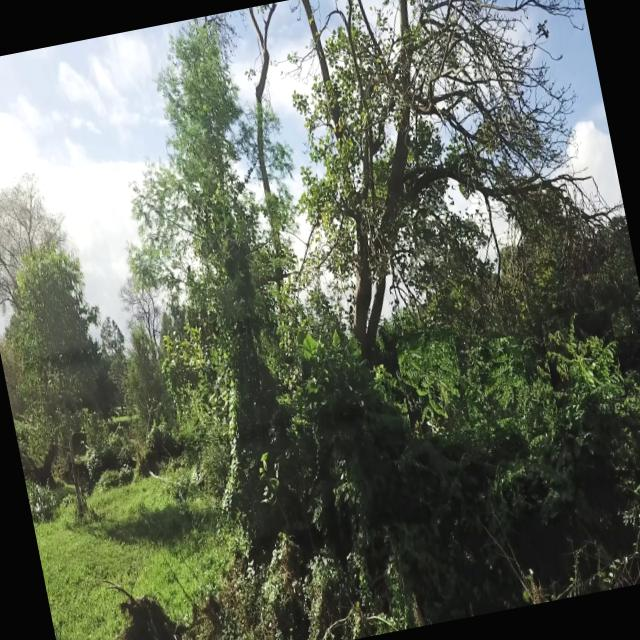Mysore-Thorn-Weed: (394, 326, 472, 440), (540, 309, 626, 409), (474, 334, 534, 422), (625, 444, 640, 581)
